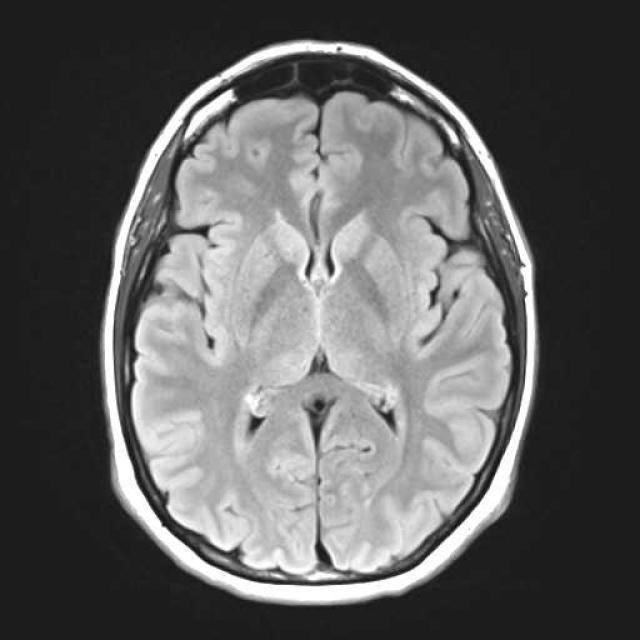No_Tumor: (103, 43, 535, 600)
